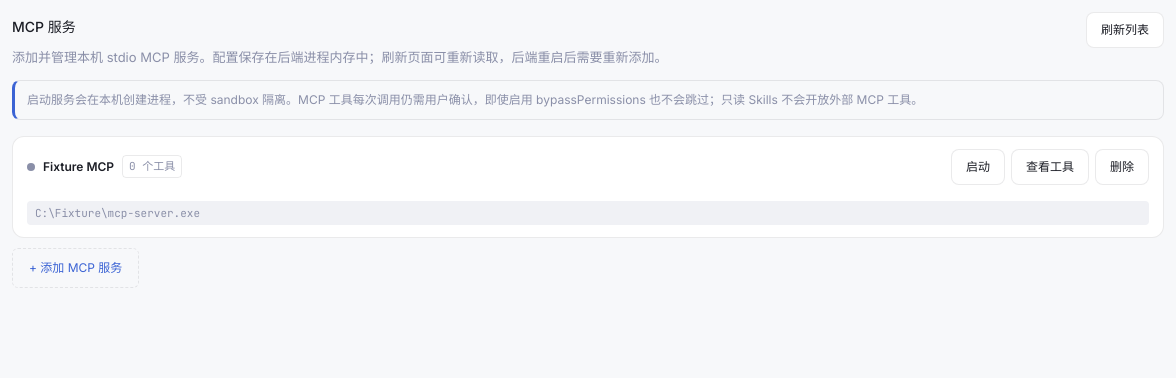
Test: MCPManager › shows an inline retry when fetching a tool list fails
What coordinates should you click on to do the following:
click the button "查看工具"
I would click on:
 (1050, 166)
Its box is [1011,148,1089,184].
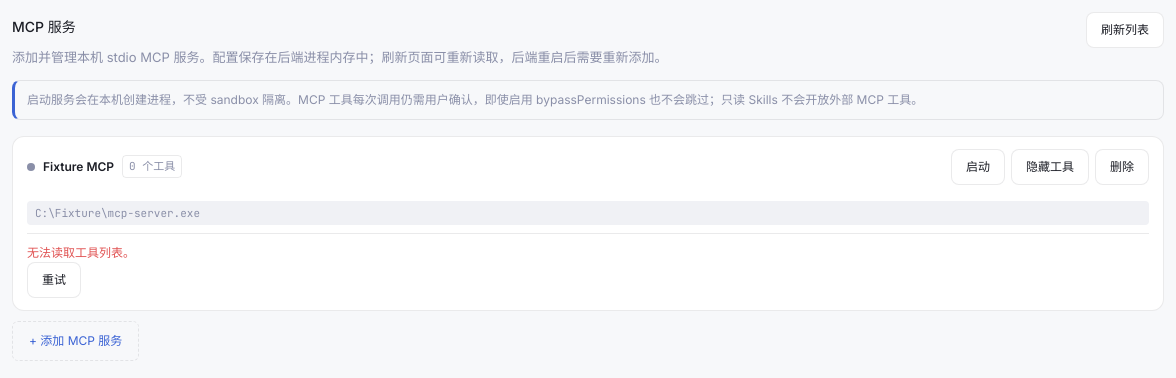
Check: the text "无法读取工具列表。" is shown, box [27,245,135,260]
Check: the button "重试" is shown, box [27,262,81,298]
